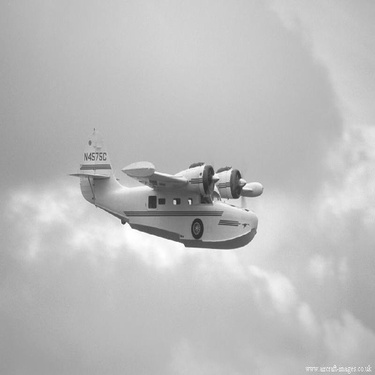airplane: (62, 122, 267, 254)
